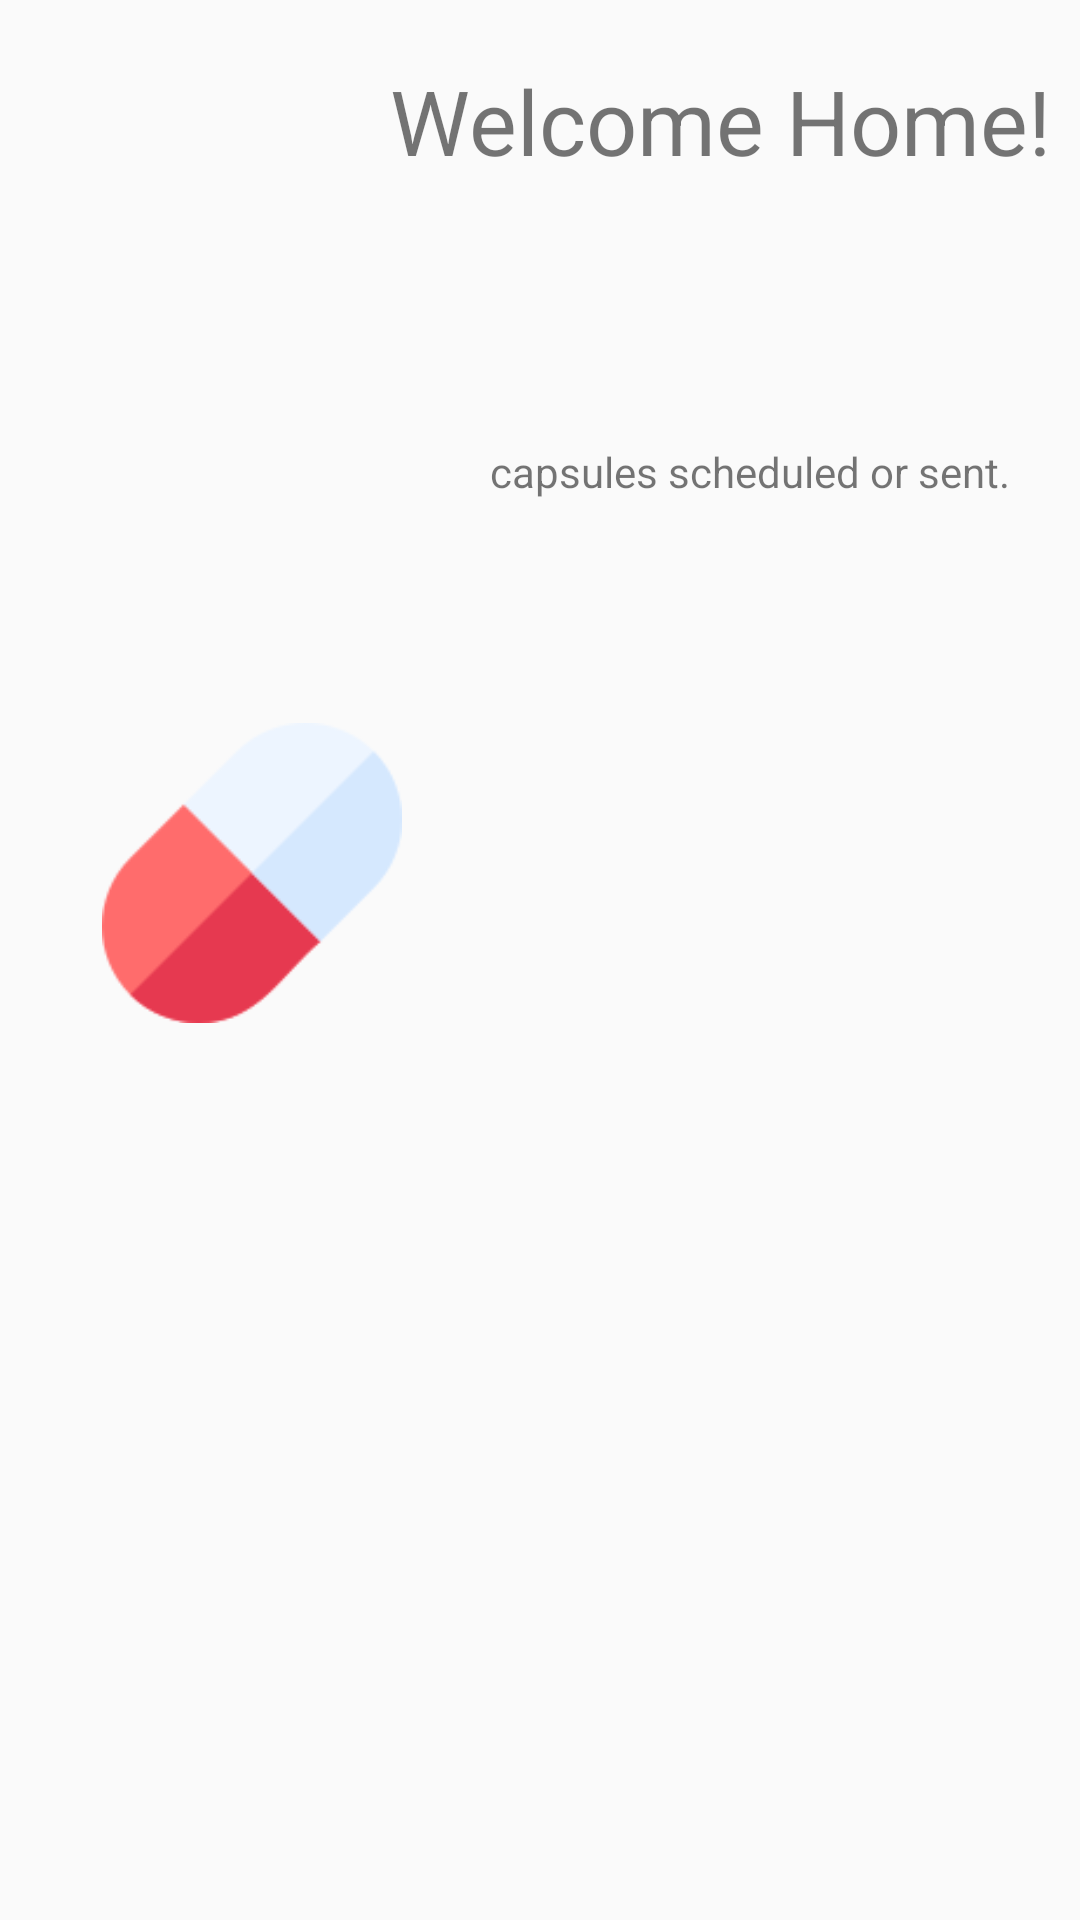

Screen size 1080 × 1920. Icon name, then its center in pixels as (x=x, y=y):
medicine: (x=252, y=887)
